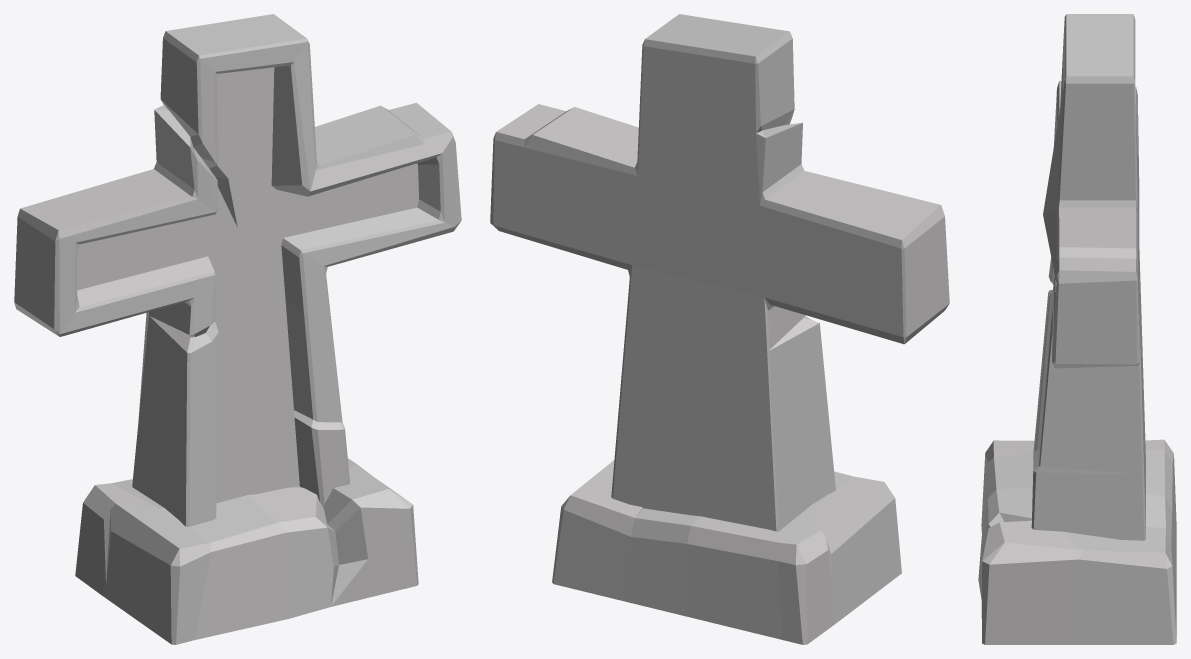
The model's file is WF_LP_HT_Props_Gravestone.003.fbx.
3 views of the same model, side by side, from view 1: azimuth 30°, elevation 25°; view 2: azimuth 150°, elevation 25°; view 3: azimuth 270°, elevation 25° (orthographic). The views are drawn at different scales.
Parts seen in each view (by area): view 1: WF_LP_HT_Props_Gravestone.003; view 2: WF_LP_HT_Props_Gravestone.003; view 3: WF_LP_HT_Props_Gravestone.003.
Boxes of the visible parts, x1,y1,x2,y2 form: WF_LP_HT_Props_Gravestone.003: (14, 14, 461, 644); WF_LP_HT_Props_Gravestone.003: (490, 14, 949, 644); WF_LP_HT_Props_Gravestone.003: (978, 14, 1176, 644).
Bounding box in the file's own units: 1.04 × 1.33 × 0.4386.
